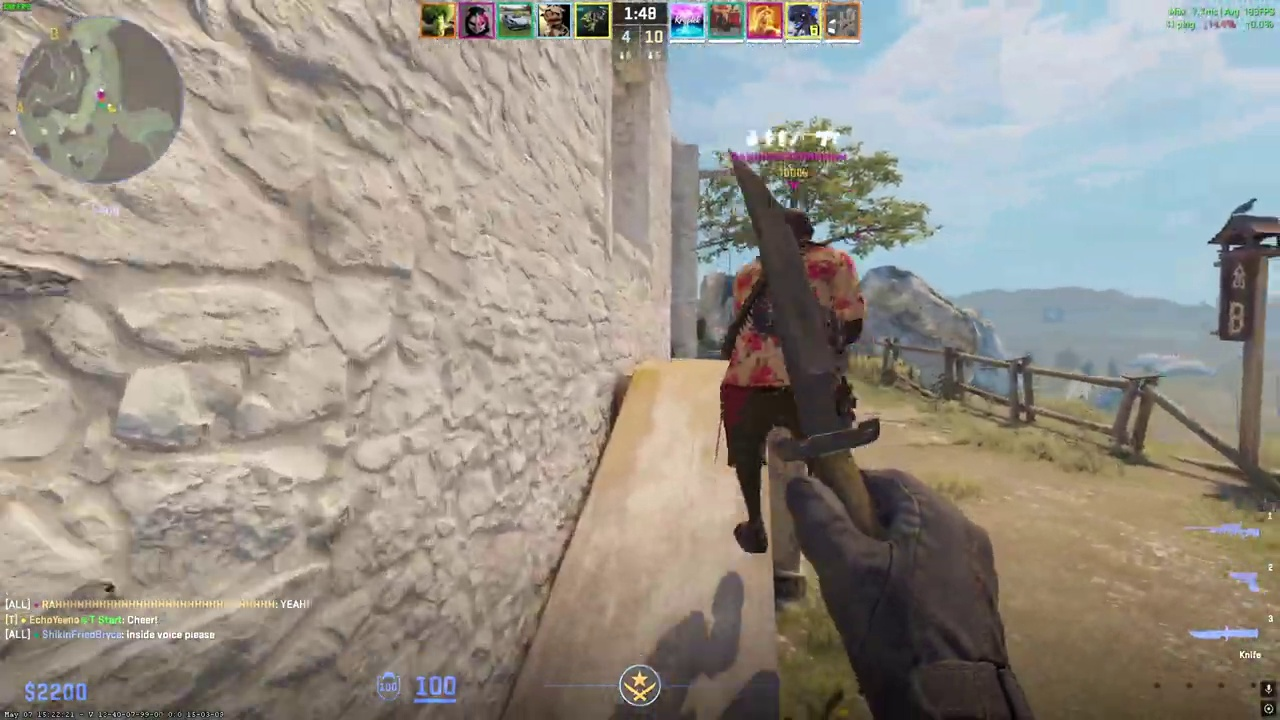Terrorist: (719, 208, 864, 548)
